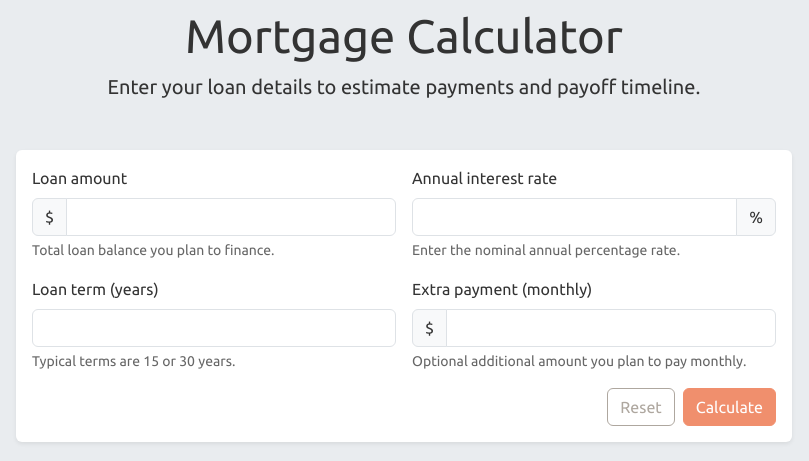
mortgage calculator page › disables the calculate button until required fields are populated
Expected: the button "Calculate" is disabled, [683,388,776,426]
Step 1. Type "200000" into the number field labelled "Loan amount" → (231, 217), box [66,198,396,236]
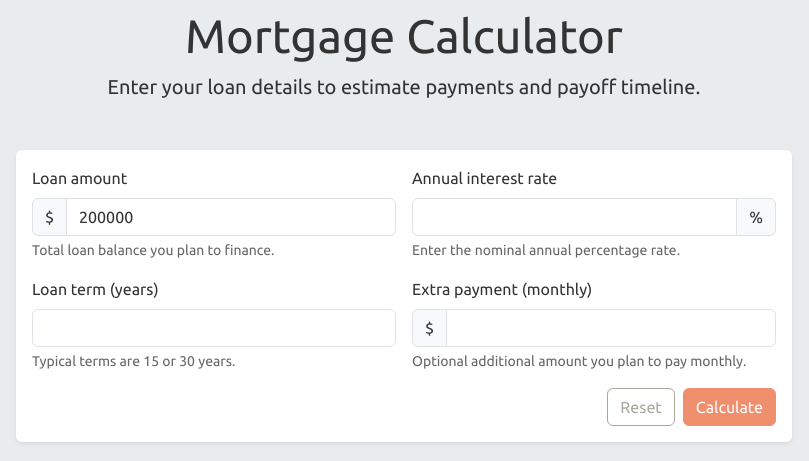
Expected: the button "Calculate" is disabled, [683,388,776,426]
Step 2. Type "4.5" into the number field labelled "Annual interest rate" → (575, 217), box [412,198,737,236]
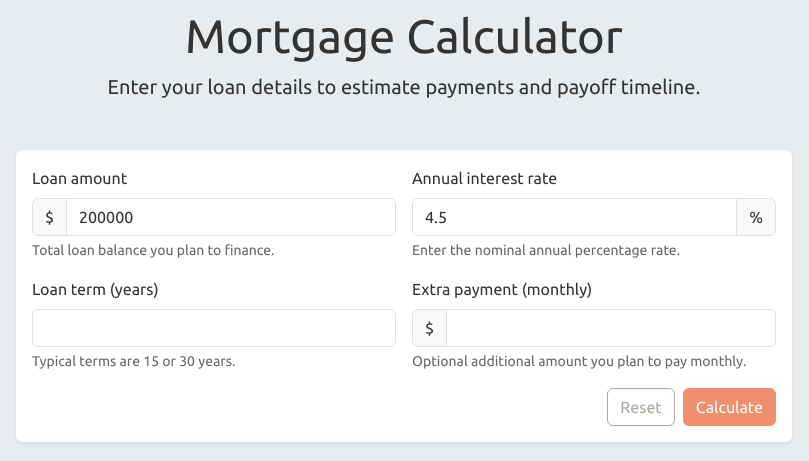
Expected: the button "Calculate" is disabled, [683,388,776,426]
Step 3. Type "30" into the number field labelled "Loan term (years)" → (214, 328), box [32,309,396,347]
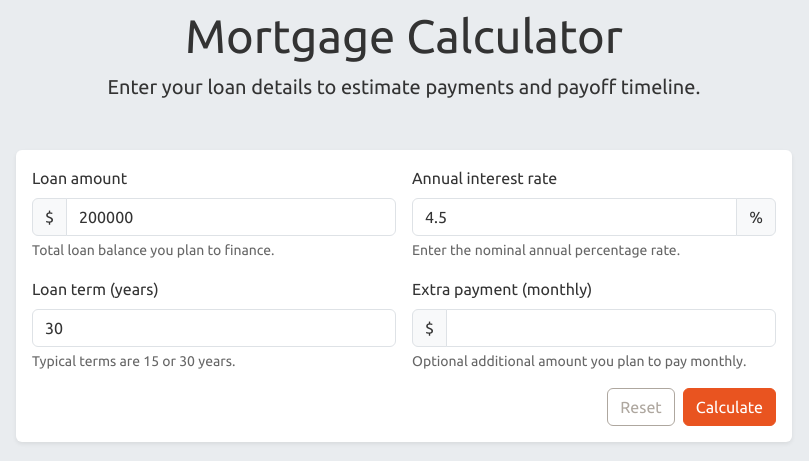
Now the button "Calculate" is enabled, box [683,388,776,426]
